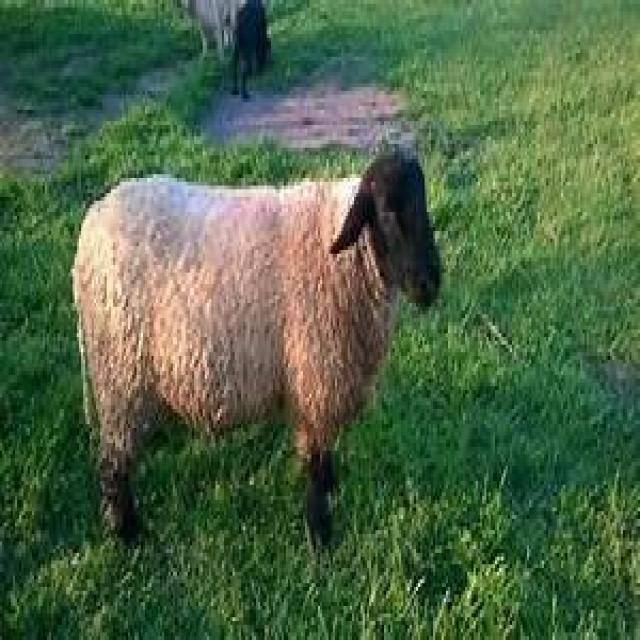animal: (70, 140, 442, 553), (179, 0, 270, 98)
